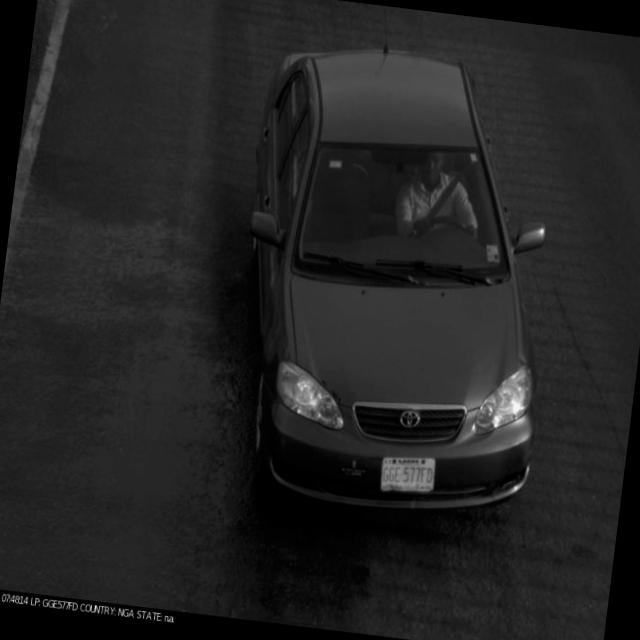person_with_seatbelt: (391, 134, 499, 263)
